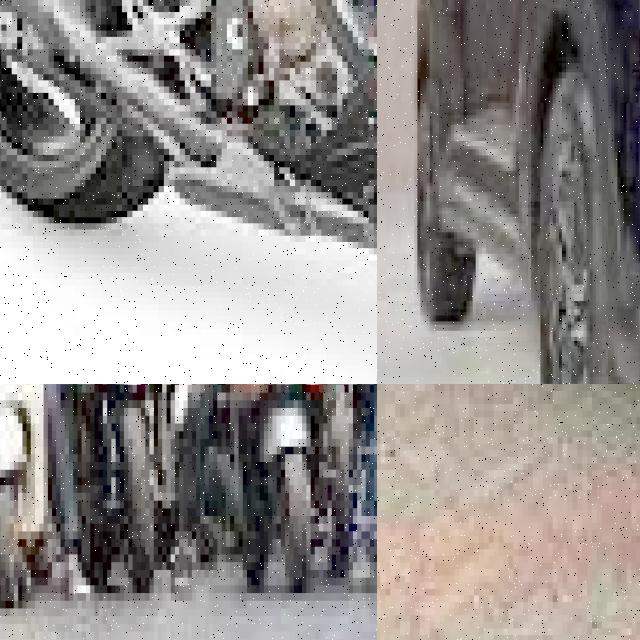bike: (0, 0, 377, 384), (69, 384, 196, 608), (213, 384, 336, 585), (0, 384, 60, 608)
car: (420, 0, 640, 384), (377, 384, 640, 640)
